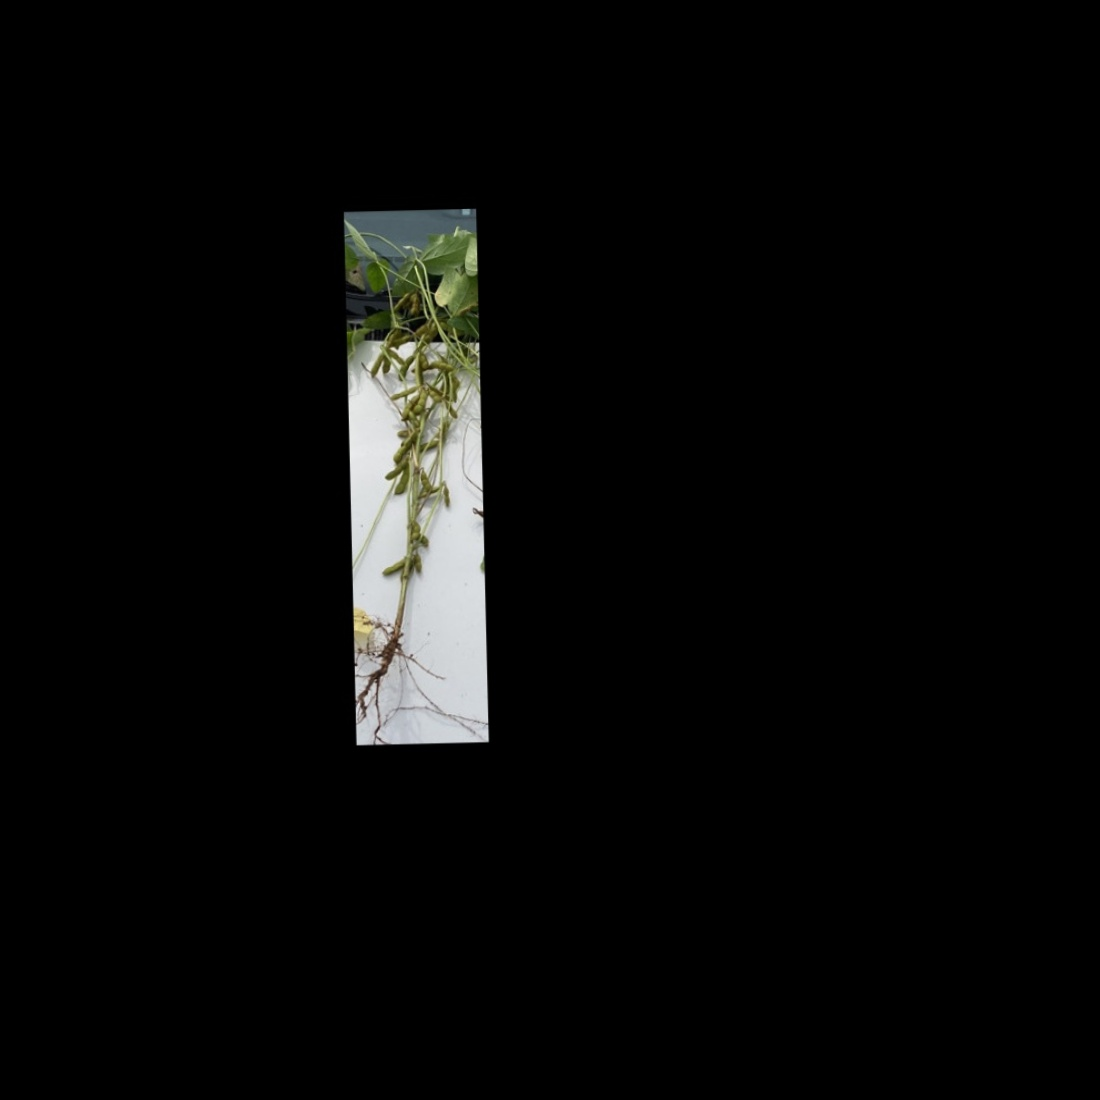pod: (394, 353, 417, 383), (378, 556, 407, 578), (409, 388, 431, 417), (380, 460, 408, 480), (419, 468, 436, 499), (438, 482, 454, 511), (429, 359, 458, 374)
soy: (351, 242, 475, 708)
